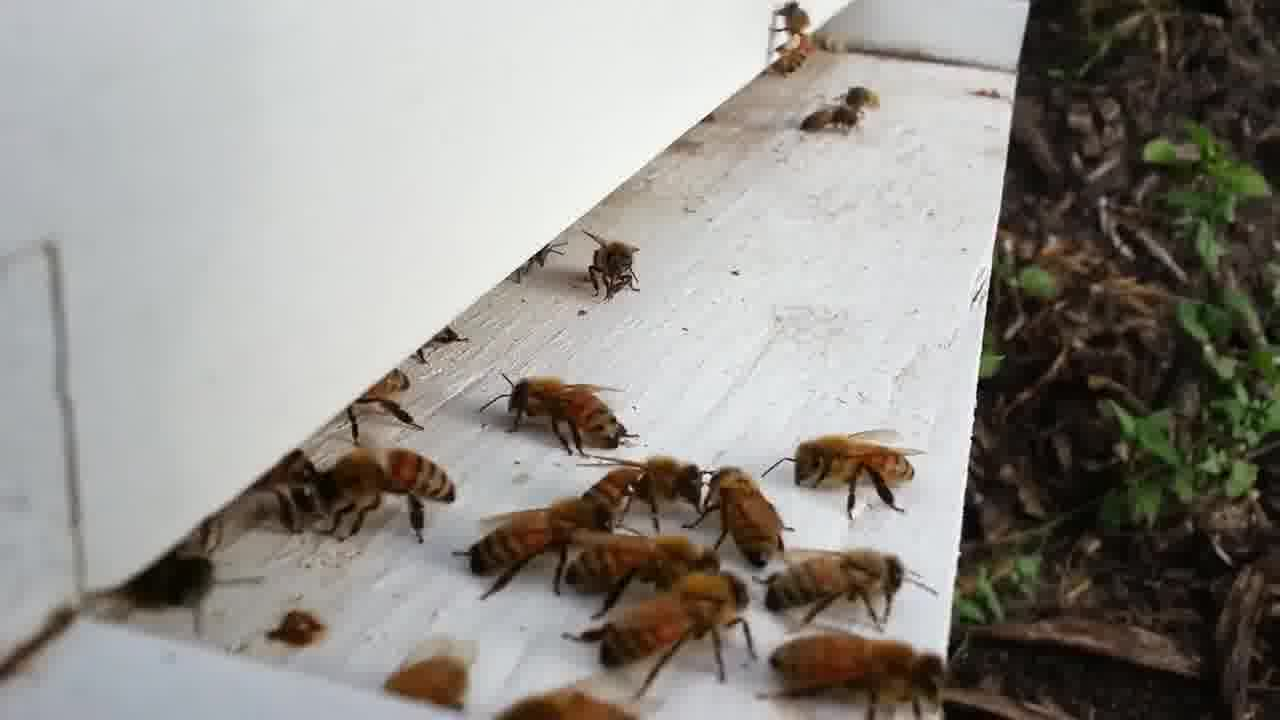pollen: (766, 1, 810, 78)
